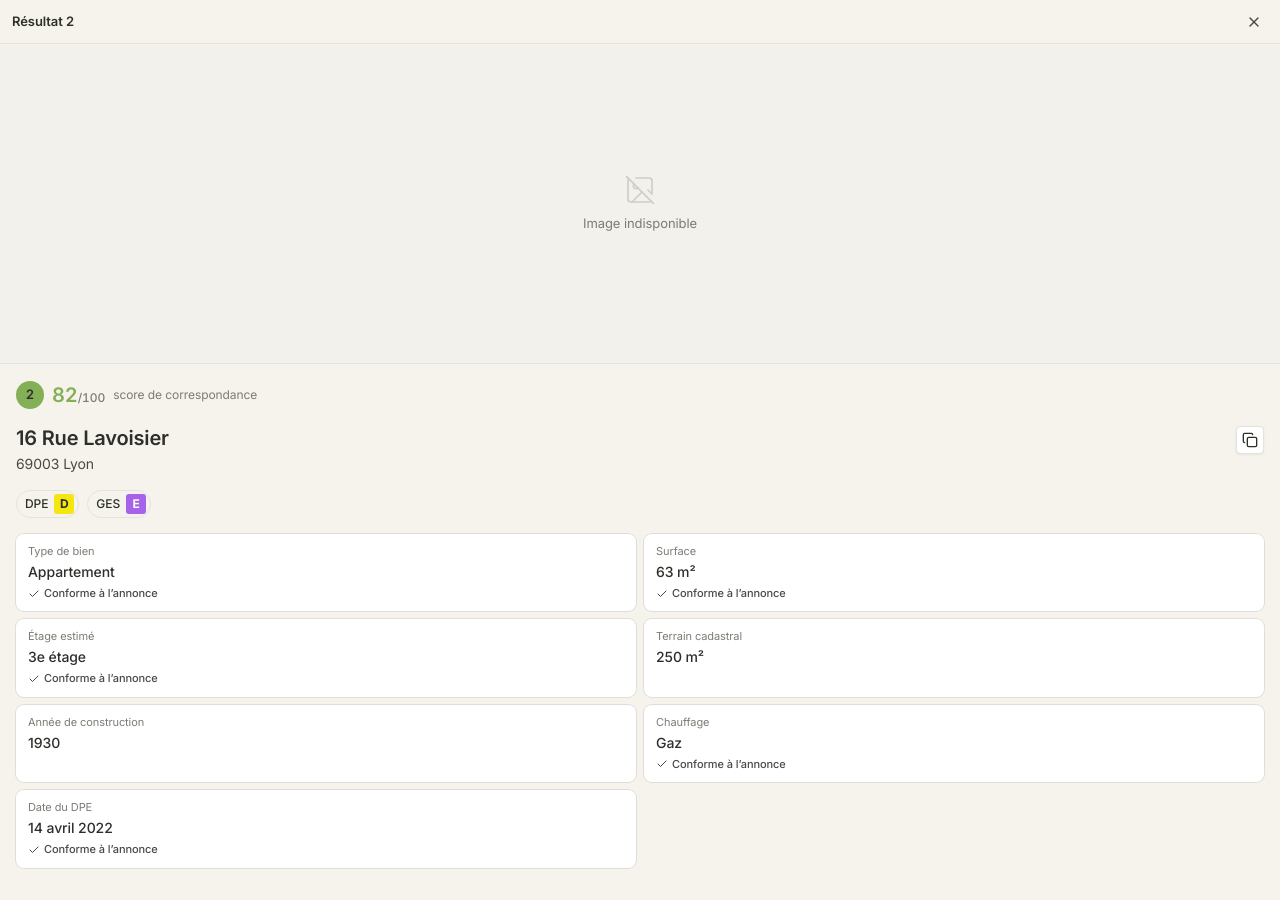
Test: ResultDetailPanel address › shows the failure in the destructive colour when the copy fails
Step 1. Click the button named "Copier l’adresse" → (1250, 440), box [1236,426,1264,454]
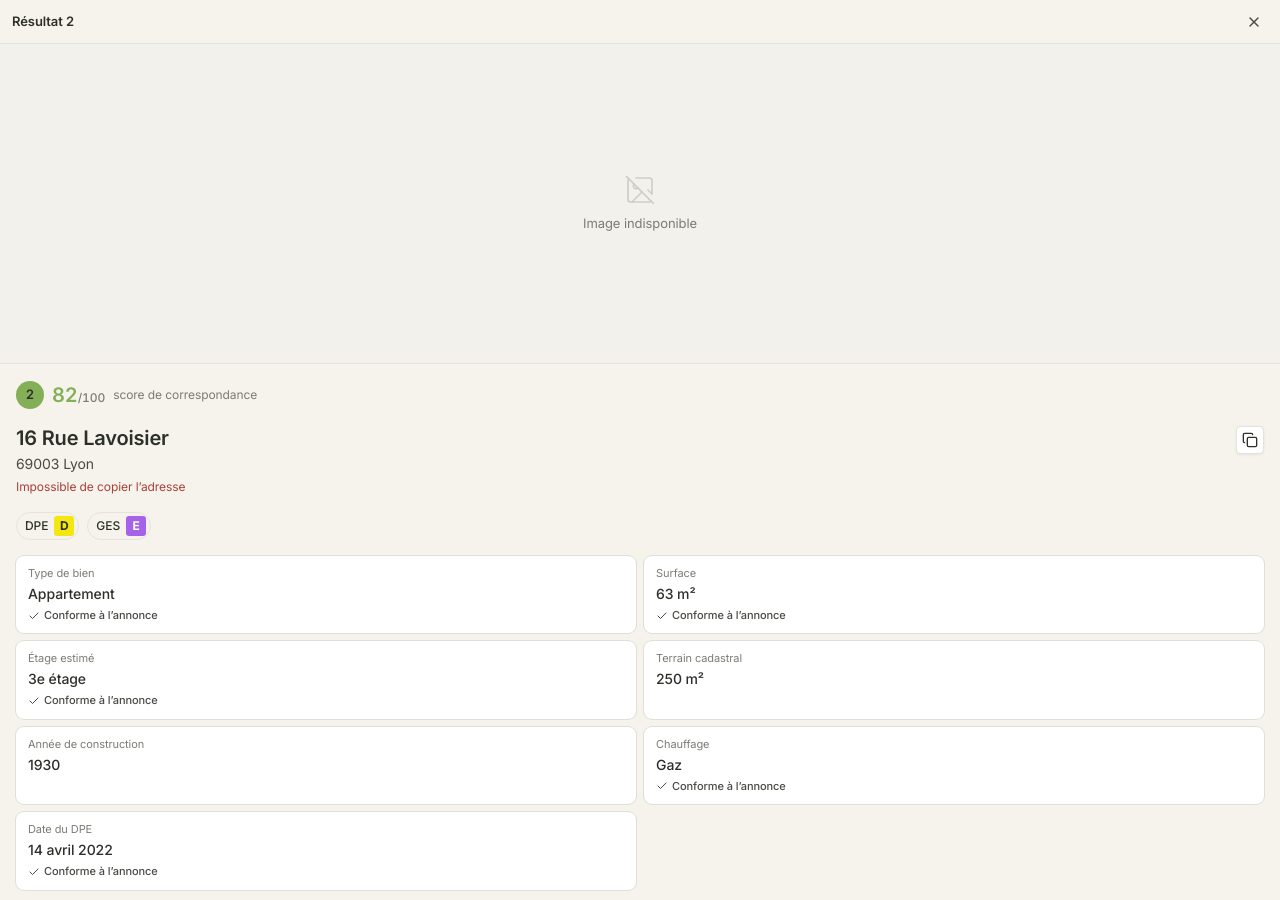
Now the message "Impossible de copier l’adresse" is shown, box [16,478,185,496]
